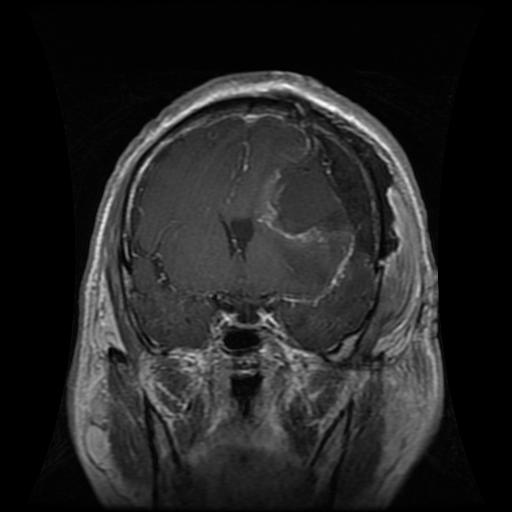Gliomia_tumour: (259, 127, 366, 285)
